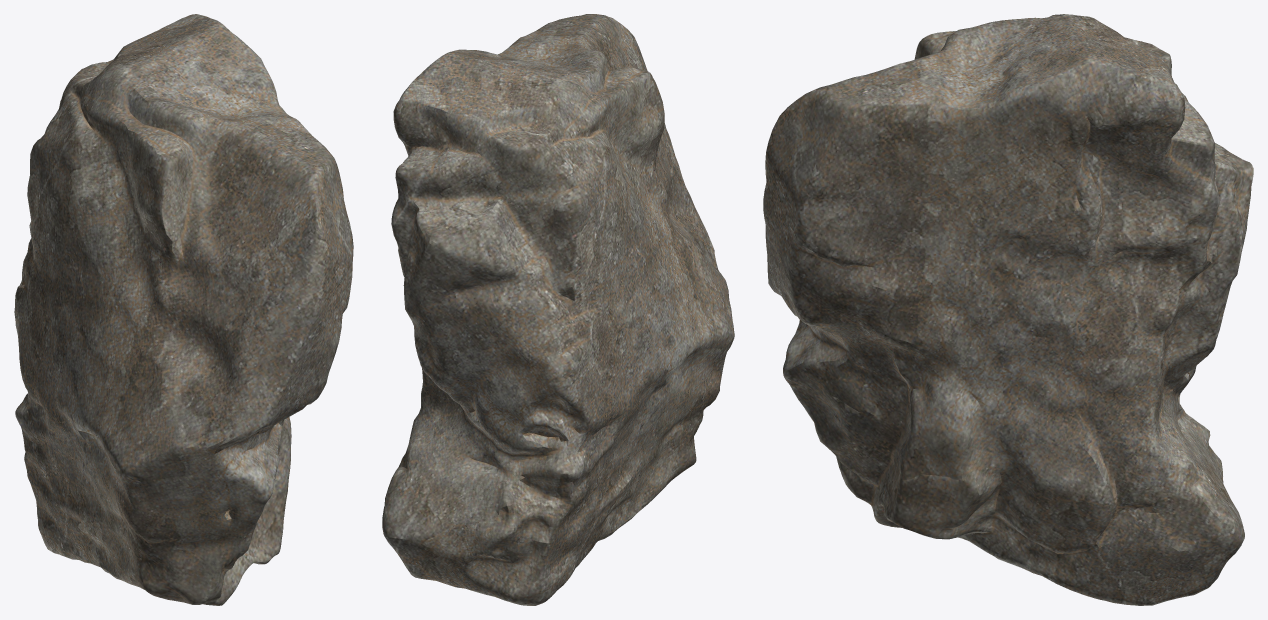
Rendered from RockShattered.obj.
3 renders of one model, left to right at view 1: azimuth 30°, elevation 25°; view 2: azimuth 150°, elevation 25°; view 3: azimuth 270°, elevation 25°, orthographic. The views are drawn at different scales.
Visible parts, largest first — view 1: solidShatter1 shard3, solidShatter1 shard2, solidShatter1 shard1, solidShatter1 shard8, solidShatter1 shard7, shard10 solidShatter1, solidShatter1 shard4, solidShatter1 shard6, solidShatter1 shard5; view 2: solidShatter1 shard4, solidShatter1 shard8, solidShatter1 shard3, solidShatter1 shard2, solidShatter1 shard7, solidShatter1 shard5, shard10 solidShatter1, solidShatter1 shard1, solidShatter1 shard6; view 3: solidShatter1 shard1, solidShatter1 shard4, solidShatter1 shard5, solidShatter1 shard9, solidShatter1 shard2, shard10 solidShatter1, solidShatter1 shard3, solidShatter1 shard7, solidShatter1 shard8.
Boxes of the visible parts, bbox=[...] form: solidShatter1 shard3: bbox=[32, 55, 280, 429]; solidShatter1 shard2: bbox=[26, 372, 280, 605]; solidShatter1 shard1: bbox=[220, 26, 353, 501]; solidShatter1 shard8: bbox=[22, 25, 175, 399]; solidShatter1 shard7: bbox=[14, 272, 122, 422]; shard10 solidShatter1: bbox=[114, 18, 253, 141]; solidShatter1 shard4: bbox=[15, 393, 285, 577]; solidShatter1 shard6: bbox=[139, 329, 280, 427]; solidShatter1 shard5: bbox=[147, 14, 203, 411]; solidShatter1 shard4: bbox=[382, 335, 628, 605]; solidShatter1 shard8: bbox=[429, 91, 703, 349]; solidShatter1 shard3: bbox=[500, 37, 707, 243]; solidShatter1 shard2: bbox=[585, 233, 734, 520]; solidShatter1 shard7: bbox=[505, 279, 686, 467]; solidShatter1 shard5: bbox=[391, 78, 710, 350]; shard10 solidShatter1: bbox=[423, 34, 591, 130]; solidShatter1 shard1: bbox=[445, 14, 679, 166]; solidShatter1 shard6: bbox=[671, 226, 708, 263]; solidShatter1 shard1: bbox=[763, 57, 1104, 479]; solidShatter1 shard4: bbox=[886, 306, 1244, 605]; solidShatter1 shard5: bbox=[1037, 66, 1253, 339]; solidShatter1 shard9: bbox=[968, 68, 1157, 337]; solidShatter1 shard2: bbox=[778, 294, 971, 527]; shard10 solidShatter1: bbox=[905, 23, 1163, 92]; solidShatter1 shard3: bbox=[767, 14, 1157, 288]; solidShatter1 shard7: bbox=[955, 335, 1004, 395]; solidShatter1 shard8: bbox=[1144, 47, 1253, 167].
Bounding box in the file's own units: 4.93 × 11.01 × 8.77.
1 material, 1 textured.
